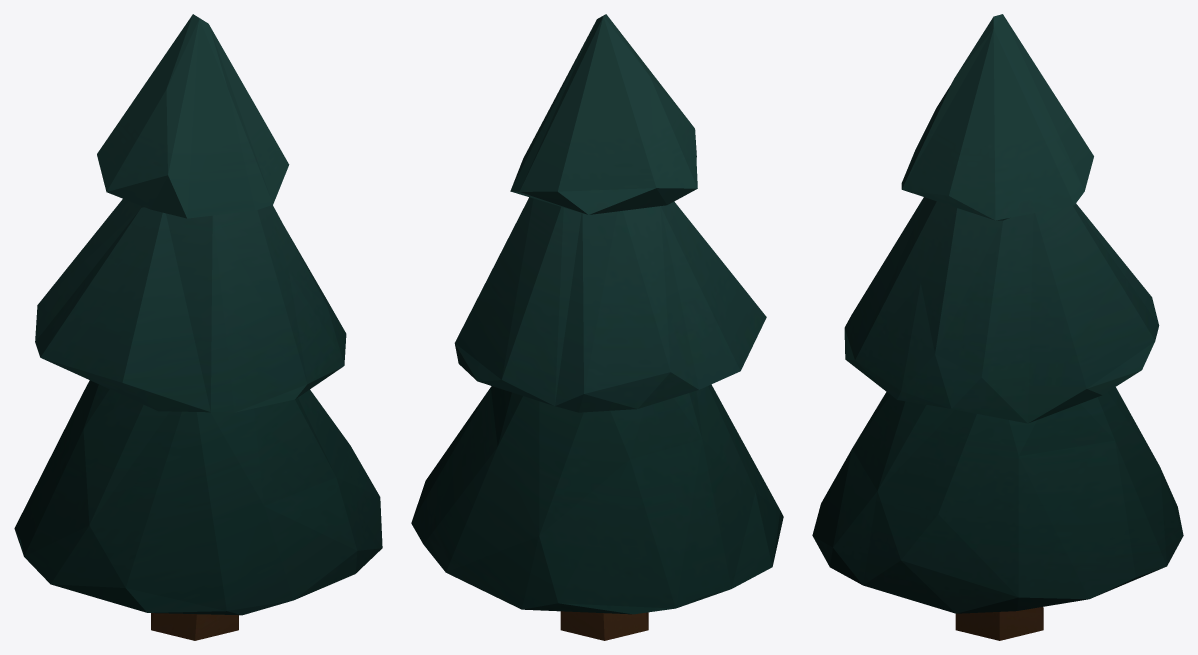
The model's file is WigglyTree.fbx.
3 views of the same model, side by side, from view 1: azimuth 30°, elevation 25°; view 2: azimuth 150°, elevation 25°; view 3: azimuth 270°, elevation 25° (orthographic).
Visible parts, largest first — view 1: bigWigglyTree; view 2: bigWigglyTree; view 3: bigWigglyTree.
Boxes of the visible parts, x1,y1,x2,y2 form: bigWigglyTree: (14,14,382,640); bigWigglyTree: (411,14,783,640); bigWigglyTree: (812,14,1183,640).
Size of the model in its own units: 12.44 by 22.07 by 12.26.
